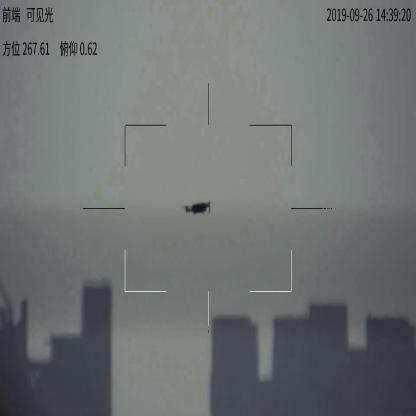uav: (180, 200, 214, 218)
